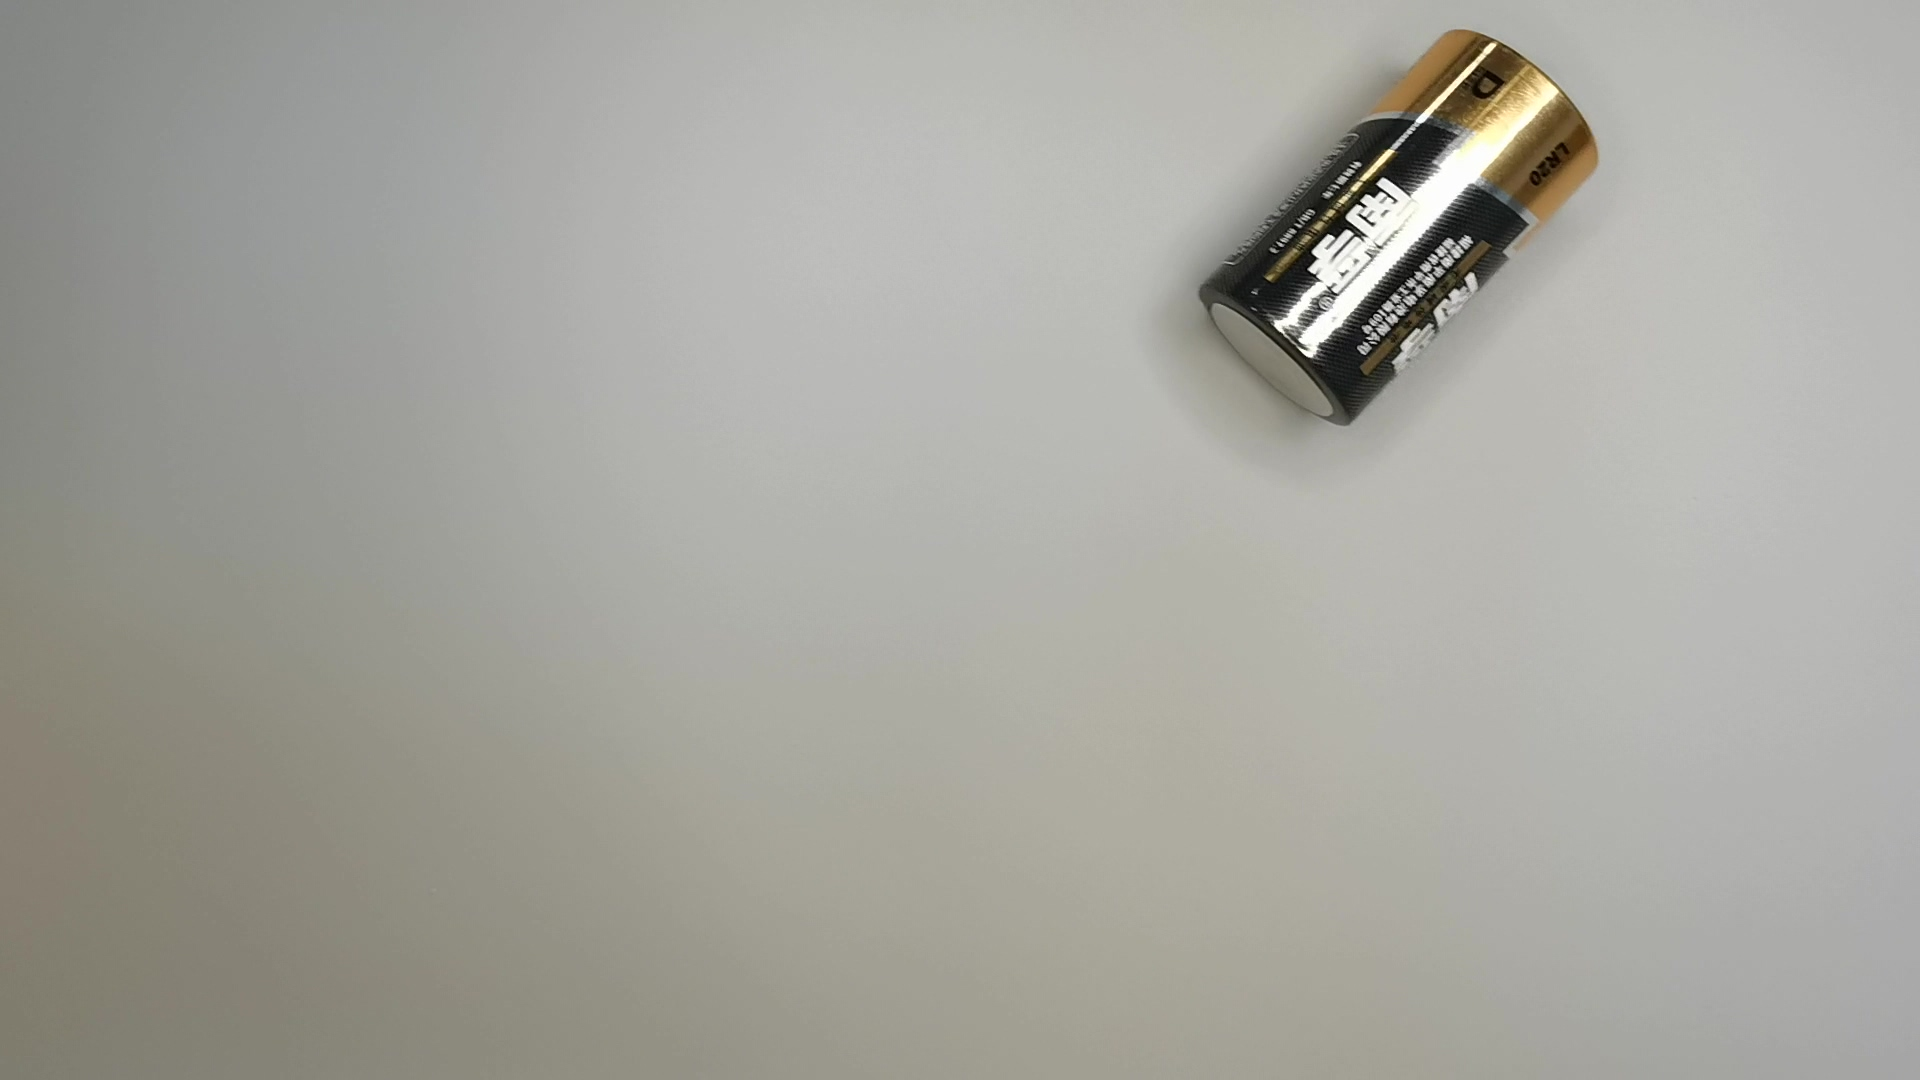battery: (1197, 22, 1611, 429)
